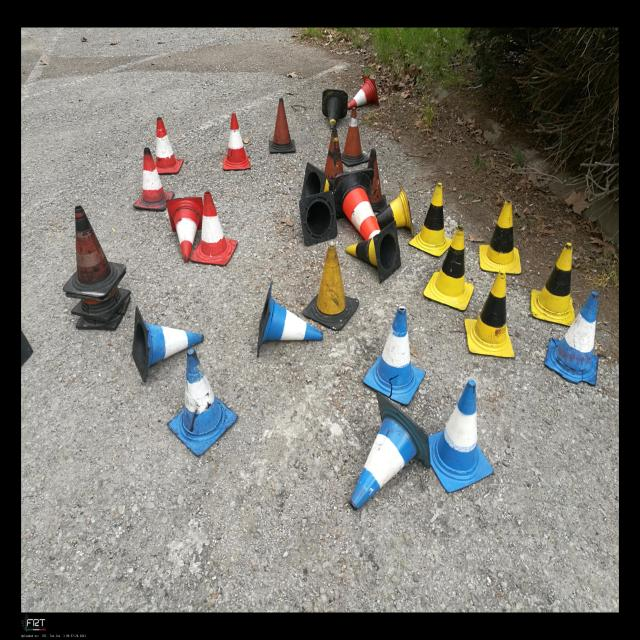blue_cone: (349, 392, 431, 510), (167, 349, 239, 456), (429, 380, 494, 493), (363, 306, 426, 406), (132, 306, 204, 382), (544, 291, 598, 386), (257, 281, 323, 358)
large_orange_cone: (333, 168, 381, 240)
orange_cone: (190, 191, 238, 266), (133, 147, 174, 211), (166, 197, 203, 262), (154, 117, 184, 174), (223, 112, 251, 170), (348, 76, 379, 110)
unknown_cone: (63, 205, 126, 297), (303, 242, 359, 330), (300, 191, 338, 246), (341, 108, 369, 166), (269, 98, 296, 153), (367, 148, 387, 212), (322, 89, 348, 132), (324, 128, 344, 179)
yellow_cone: (465, 270, 514, 358), (424, 225, 474, 311), (531, 242, 575, 326), (346, 220, 401, 284), (408, 182, 452, 256), (479, 200, 522, 274), (375, 182, 414, 238), (301, 162, 334, 199)
